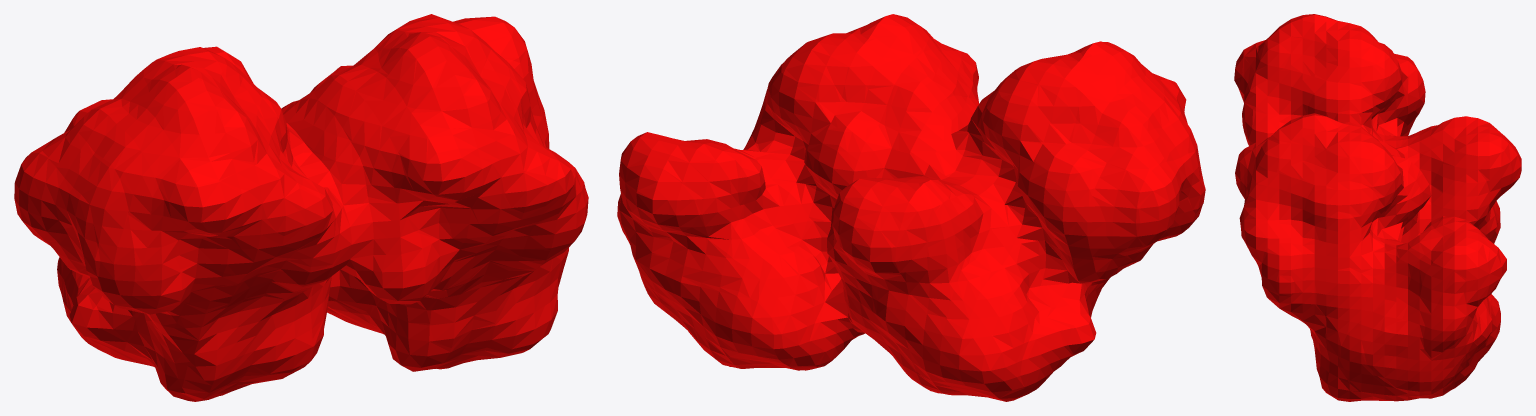
The model's file is rfaC_coarse.dae.
The picture shows the model from 3 angles, left to right: view 1: azimuth 30°, elevation 25°; view 2: azimuth 150°, elevation 25°; view 3: azimuth 270°, elevation 25°; orthographic projection. The views are drawn at different scales.
Parts seen in each view (by area): view 1: rfaC; view 2: rfaC; view 3: rfaC.
Part boxes in pixels (x1,y1,x2,y2): rfaC: [14, 14, 588, 401]; rfaC: [617, 14, 1205, 401]; rfaC: [1234, 14, 1521, 401].
Bounding box in the file's own units: 96.99 × 63.84 × 59.91.
